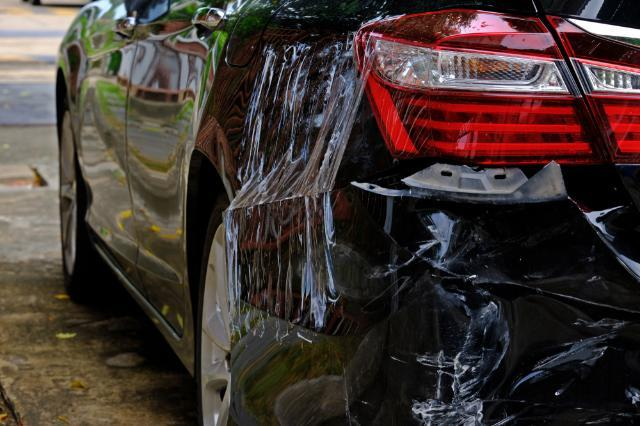dent: (351, 195, 638, 426)
